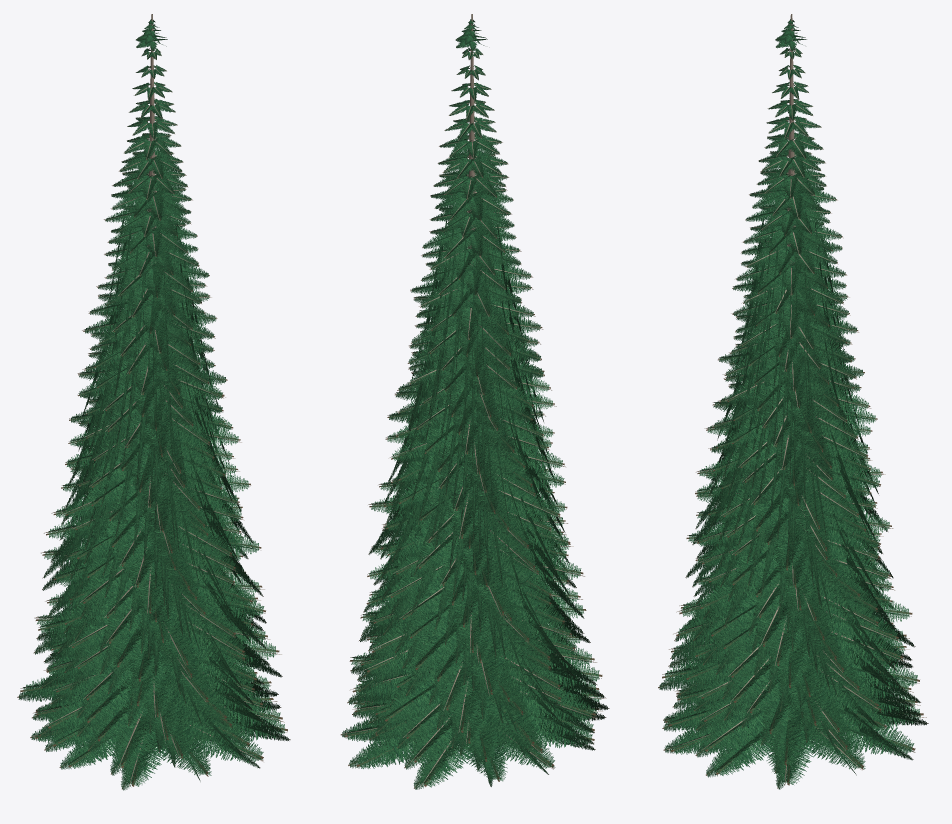
The model's file is gran_blaberget_5.glb.
The picture shows the model from 3 angles, left to right: view 1: azimuth 30°, elevation 25°; view 2: azimuth 150°, elevation 25°; view 3: azimuth 270°, elevation 25°; orthographic projection.
Parts seen in each view (by area): view 1: Barrverk, Grenar; view 2: Barrverk, Grenar; view 3: Barrverk, Grenar.
Boxes of the visible parts, x1,y1,x2,y2 form: Barrverk: (17,19,290,790); Grenar: (32,49,284,786); Barrverk: (340,19,609,789); Grenar: (341,49,606,786); Barrverk: (658,19,928,789); Grenar: (667,48,926,785).
Bounding box in the file's own units: 4.28 × 12.29 × 4.38.
Materials: 2 (1 with a texture image).
